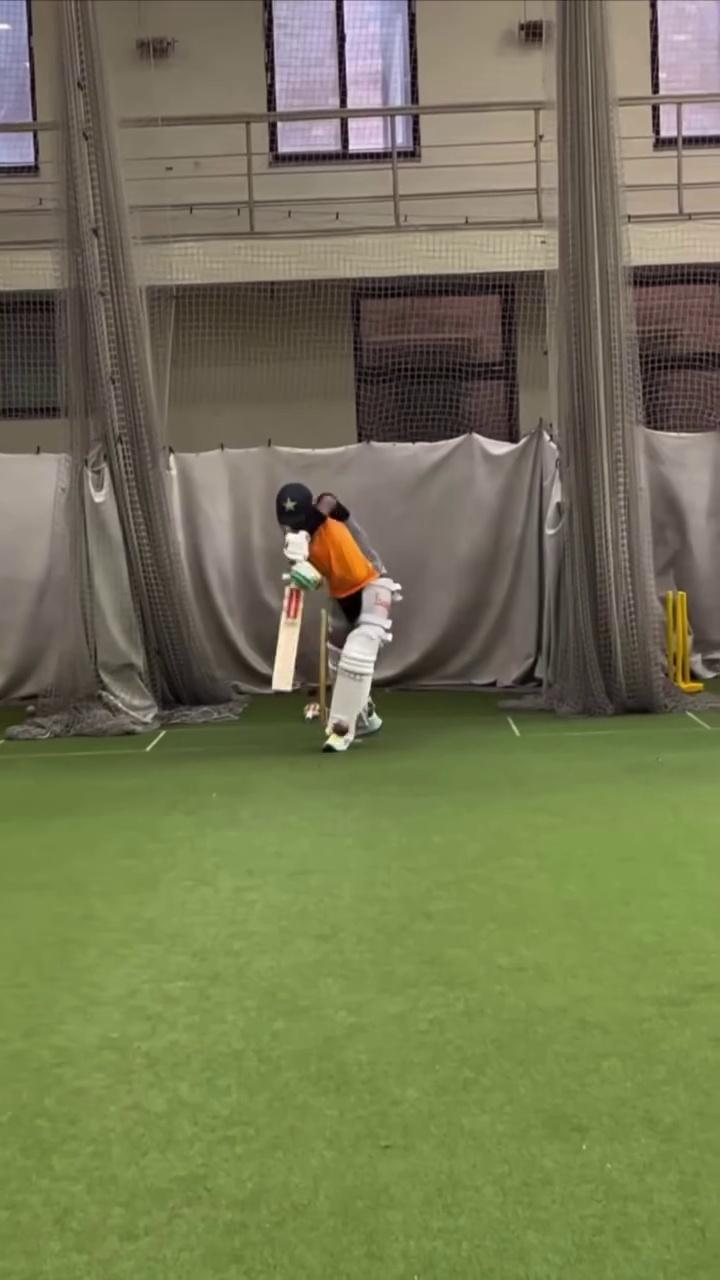bat: (271, 586, 305, 693)
